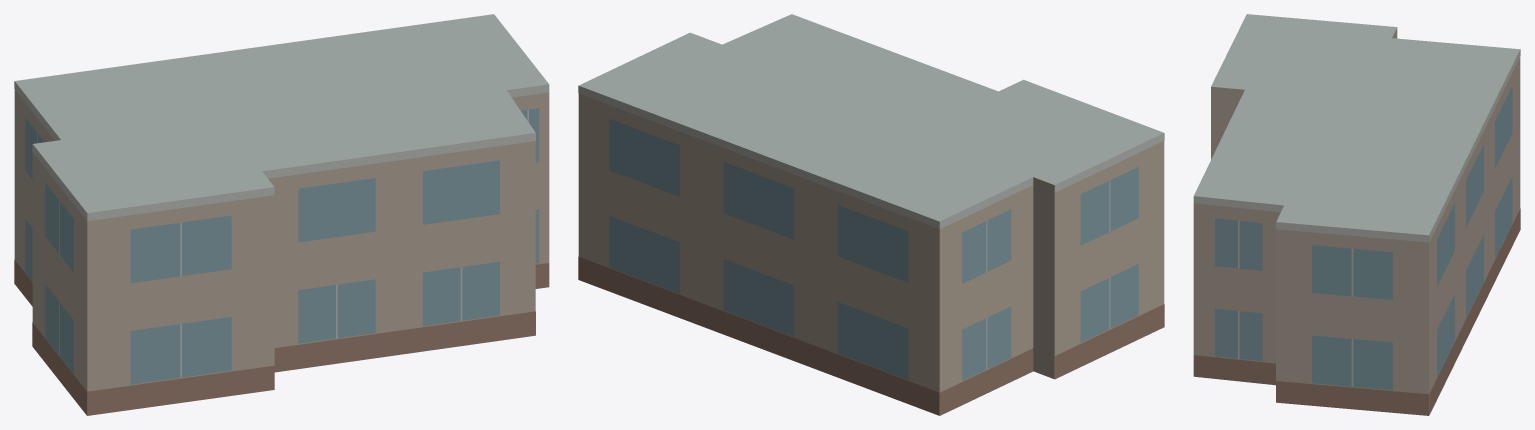
File: survey-upis-32811811.glb
3 views of the same model, side by side, from view 1: azimuth 30°, elevation 25°; view 2: azimuth 150°, elevation 25°; view 3: azimuth 270°, elevation 25° (orthographic). The views are drawn at different scales.
Visible parts, largest first — view 1: survey-upis-32811811.tmp; view 2: survey-upis-32811811.tmp; view 3: survey-upis-32811811.tmp.
Boxes of the visible parts, <box> form: survey-upis-32811811.tmp: <box>14,14,549,415</box>; survey-upis-32811811.tmp: <box>578,14,1164,415</box>; survey-upis-32811811.tmp: <box>1193,14,1520,415</box>.
Bounding box in the file's own units: 16.05 × 6.1 × 10.02.
